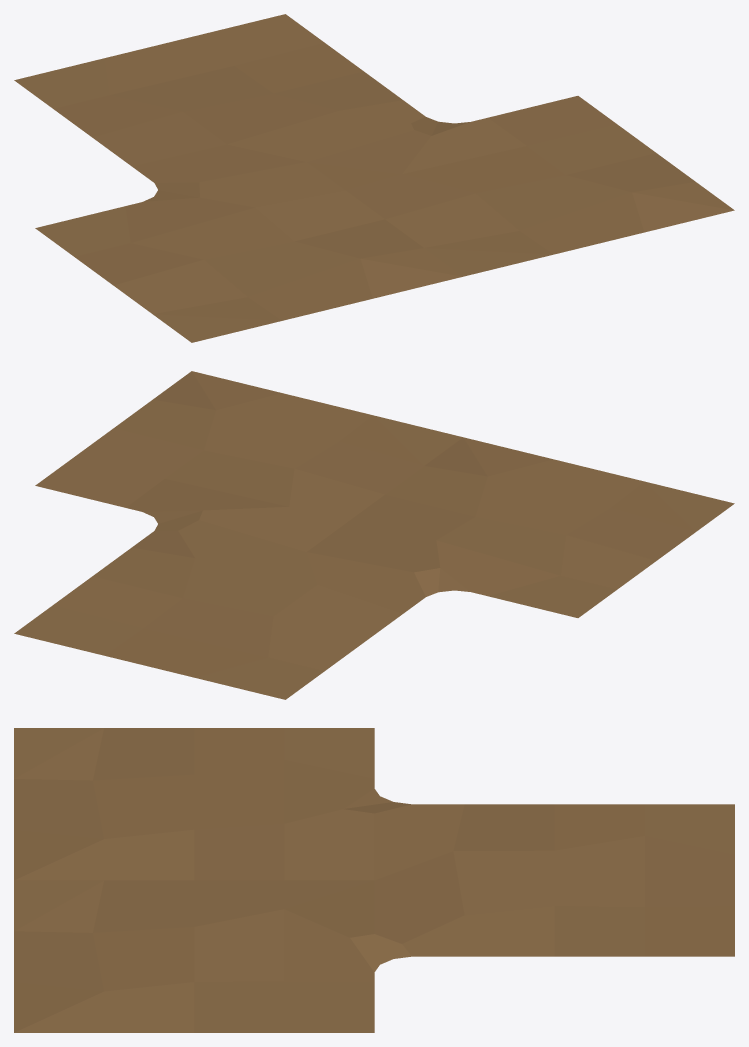
File: Ground_3.fbx
The picture shows the model from 3 angles, top to bottom: view 1: azimuth 30°, elevation 25°; view 2: azimuth 150°, elevation 25°; view 3: azimuth 270°, elevation 25°; orthographic projection. The views are drawn at different scales.
Parts seen in each view (by area): view 1: Ground_3; view 2: Ground_3; view 3: Ground_3.
Part boxes in pixels (x1,y1,x2,y2): Ground_3: (14,14,734,342); Ground_3: (14,371,734,699); Ground_3: (14,728,734,1032).
Size of the model in its own units: 600 by 7.69 by 600.
